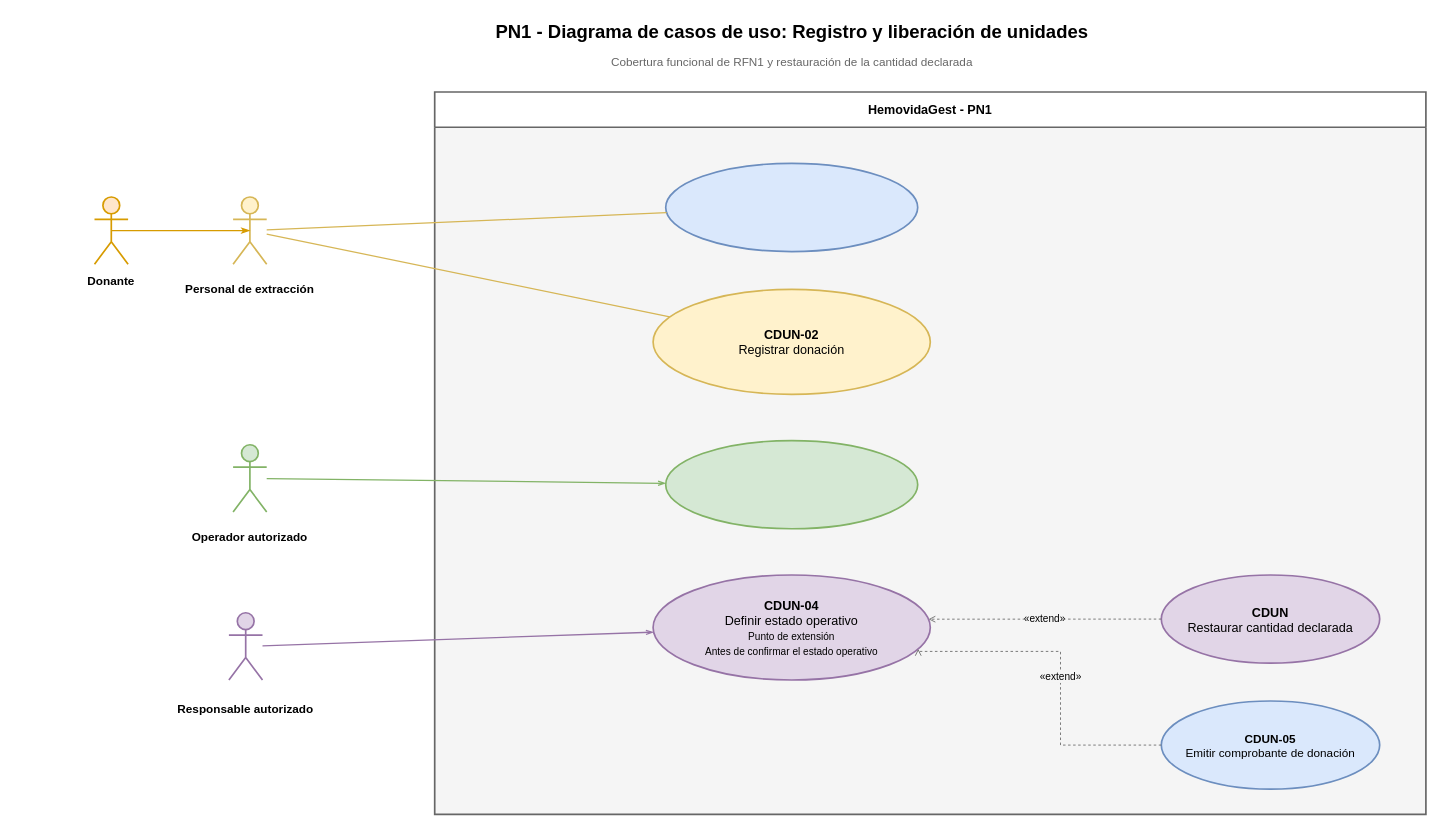
Some shapes in this 1441 by 829 pixel diagram are drawn without their labels. The centre of each missing label's shape, as x and y in pixels:
"CDUN-01 Registrar donante" belongs at (x=791, y=207).
"CDUN-03 Clasificar unidad" belongs at (x=791, y=484).
